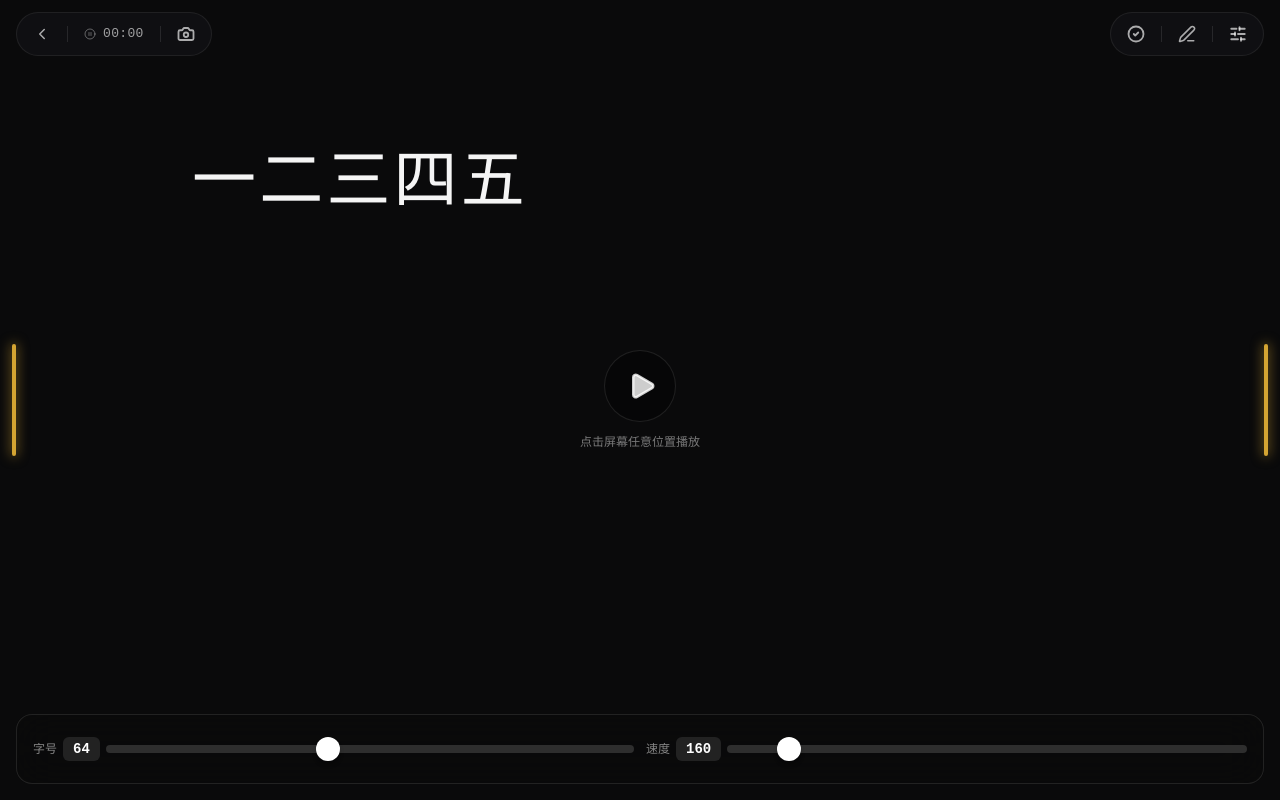
Test: Teleprompter 读完动作 › 顶栏圆形「标记已拍摄」按钮：点击回调并弹 toast
The image size is (1280, 800).
What coordinates should you click on to do the following:
click the button named "标记为已拍摄"
I would click on:
 (1136, 34)
Its box is [1116,17,1156,51].
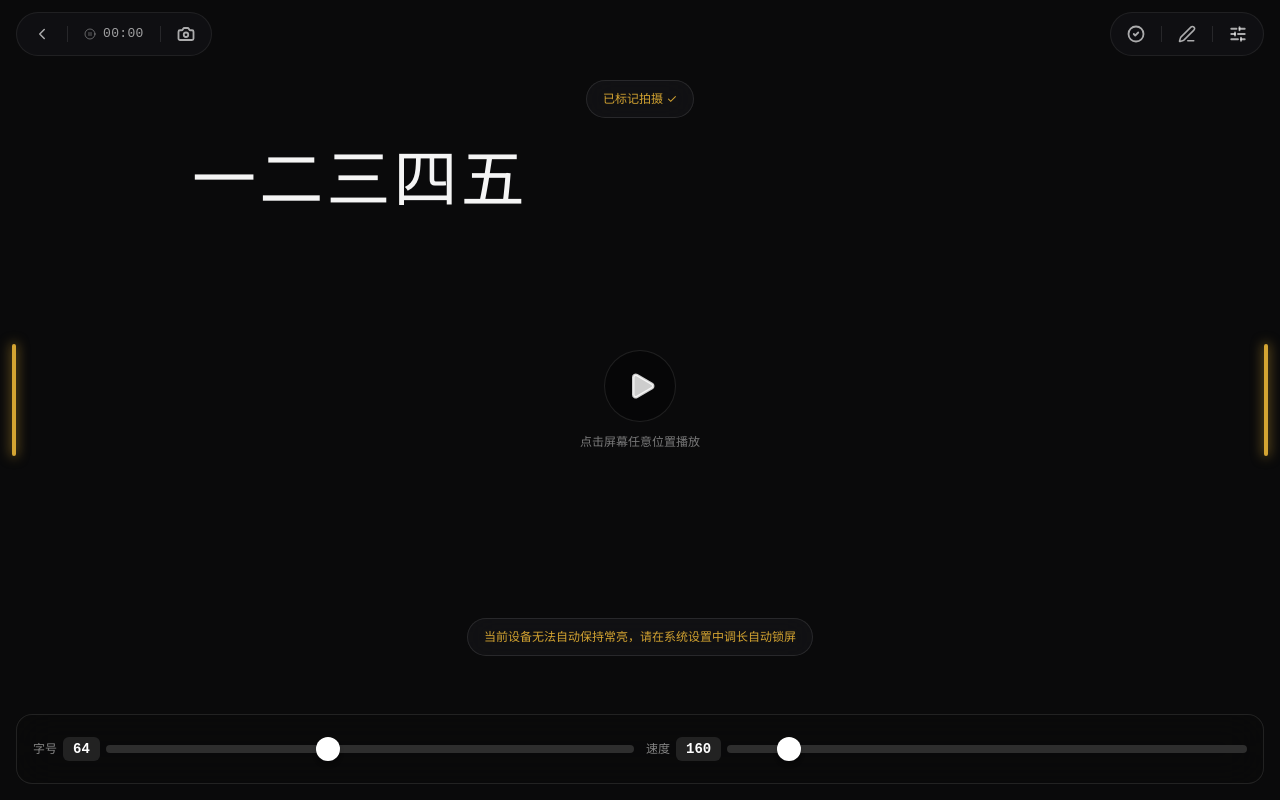
Expected: the text "已标记拍摄 ✓" is shown, [586,80,694,118]
